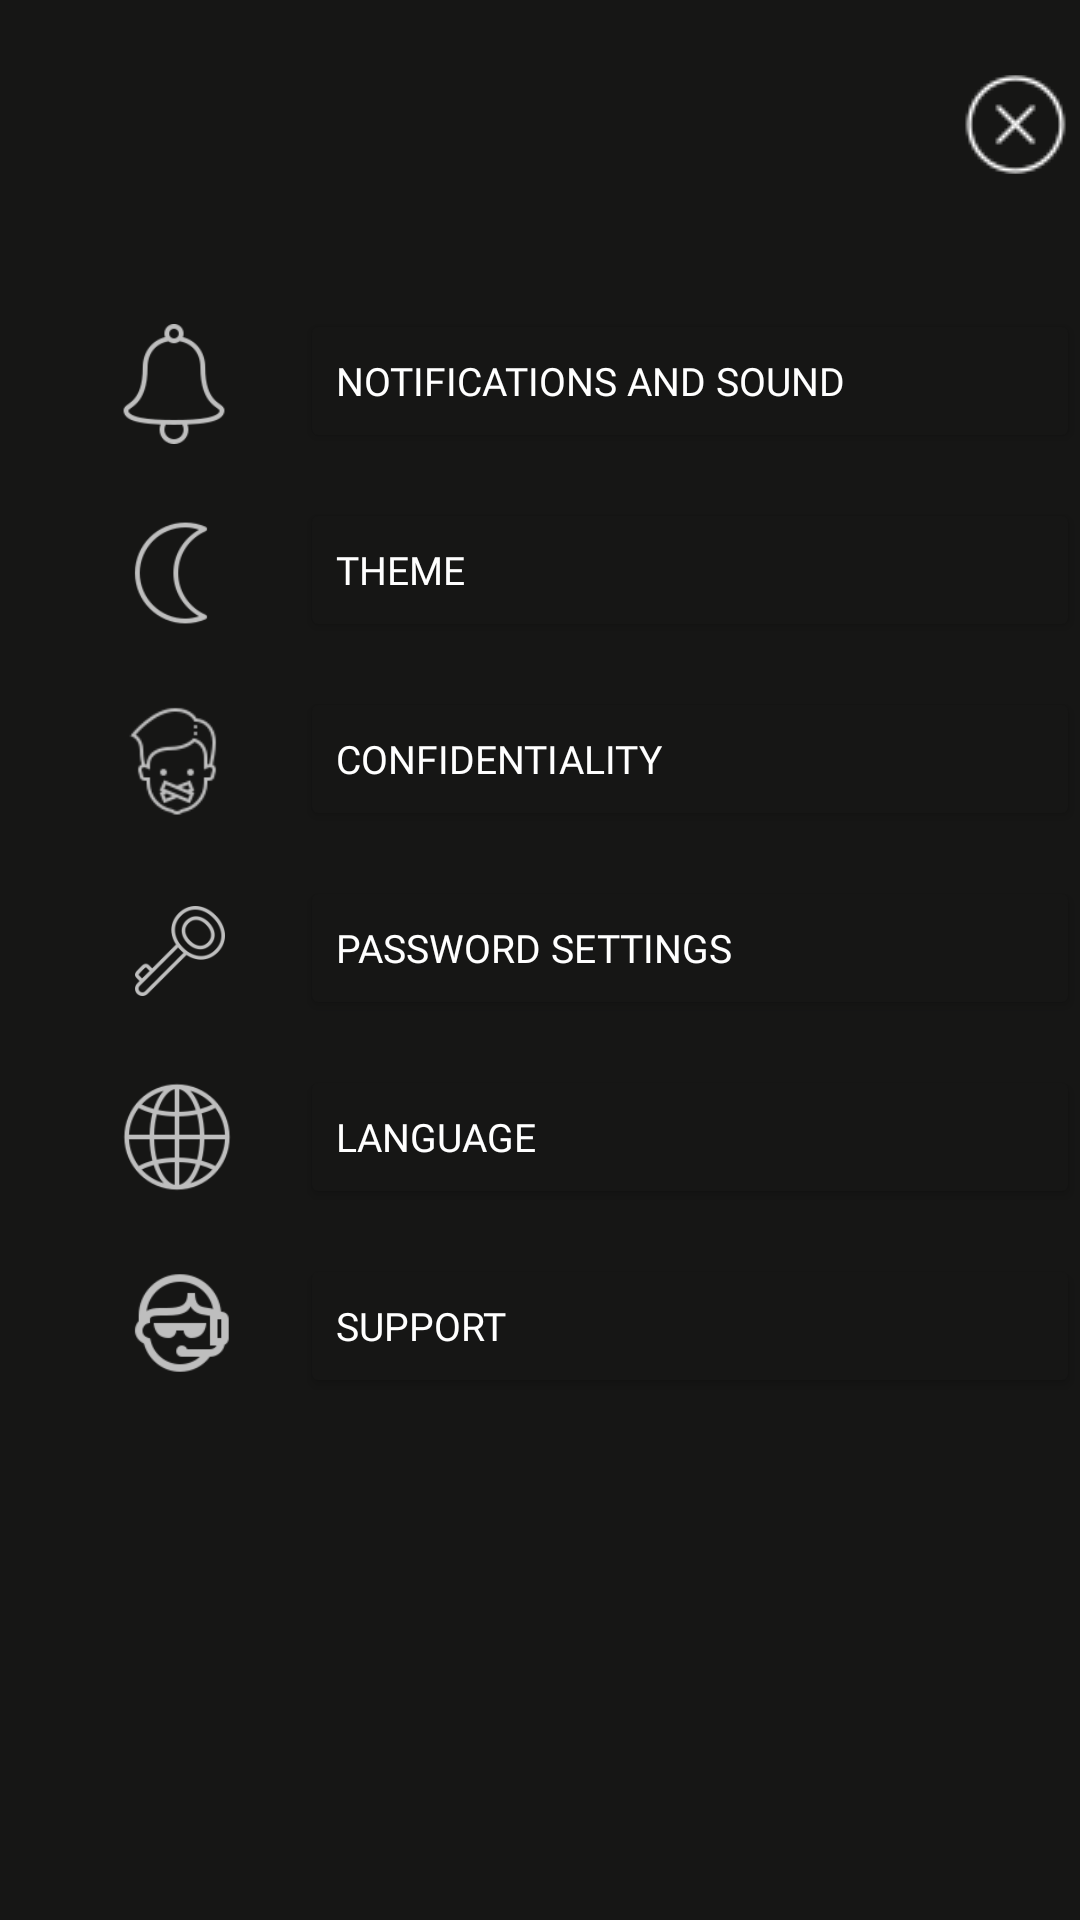

Screen size 1080 × 1920. Icon name, then its center in pixels as (x=x, y=y):
close: (x=1015, y=124)
key: (x=180, y=951)
moon: (x=171, y=573)
